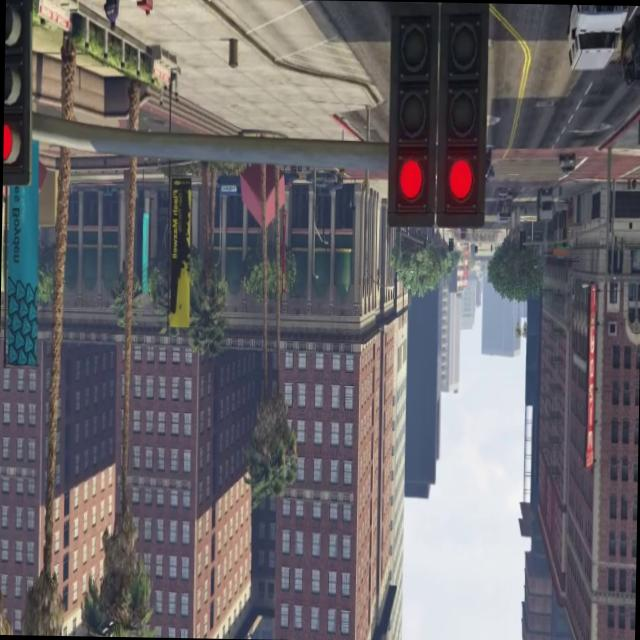Red-Signal: (382, 1, 494, 244), (3, 0, 41, 199)
